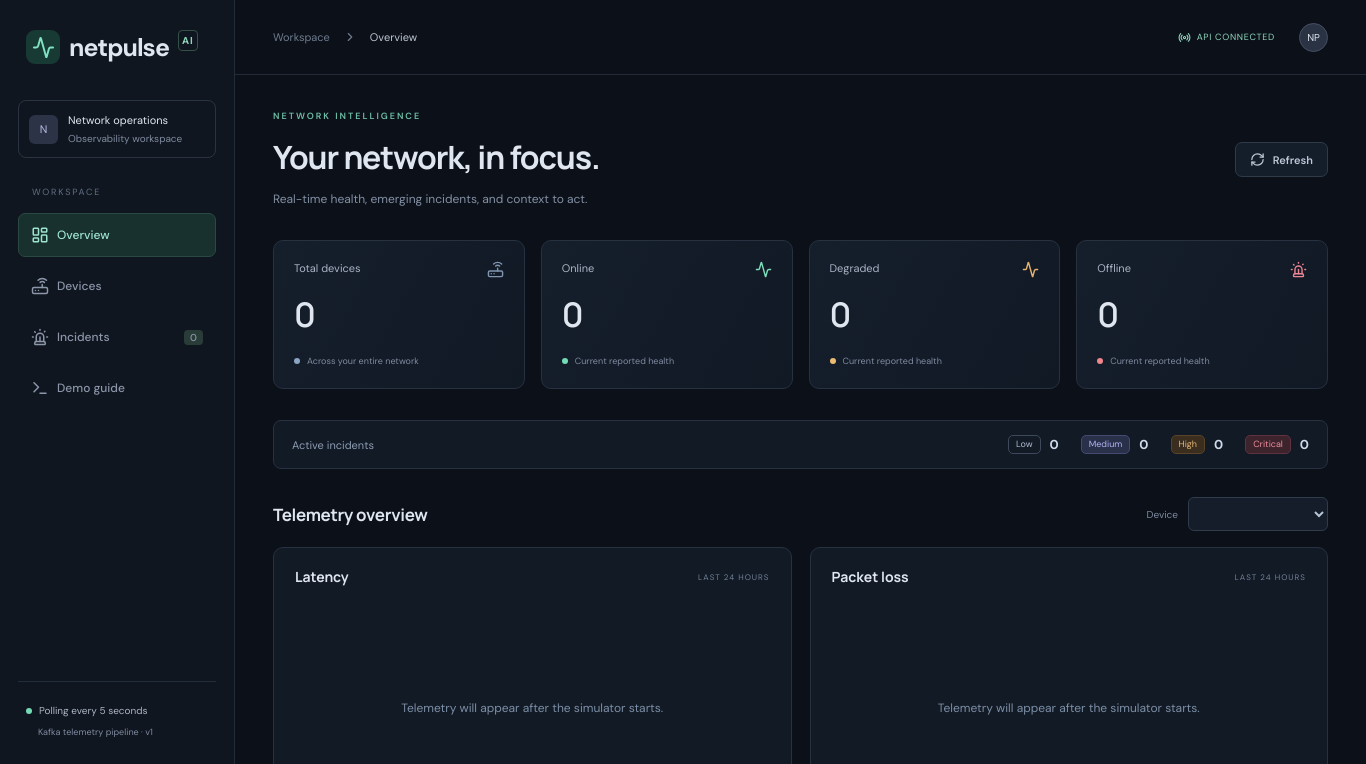
Test case: dashboard › renders backend empty states and demo instructions
Click the button "Demo guide" at {"x": 117, "y": 388}, box [18, 366, 216, 410]
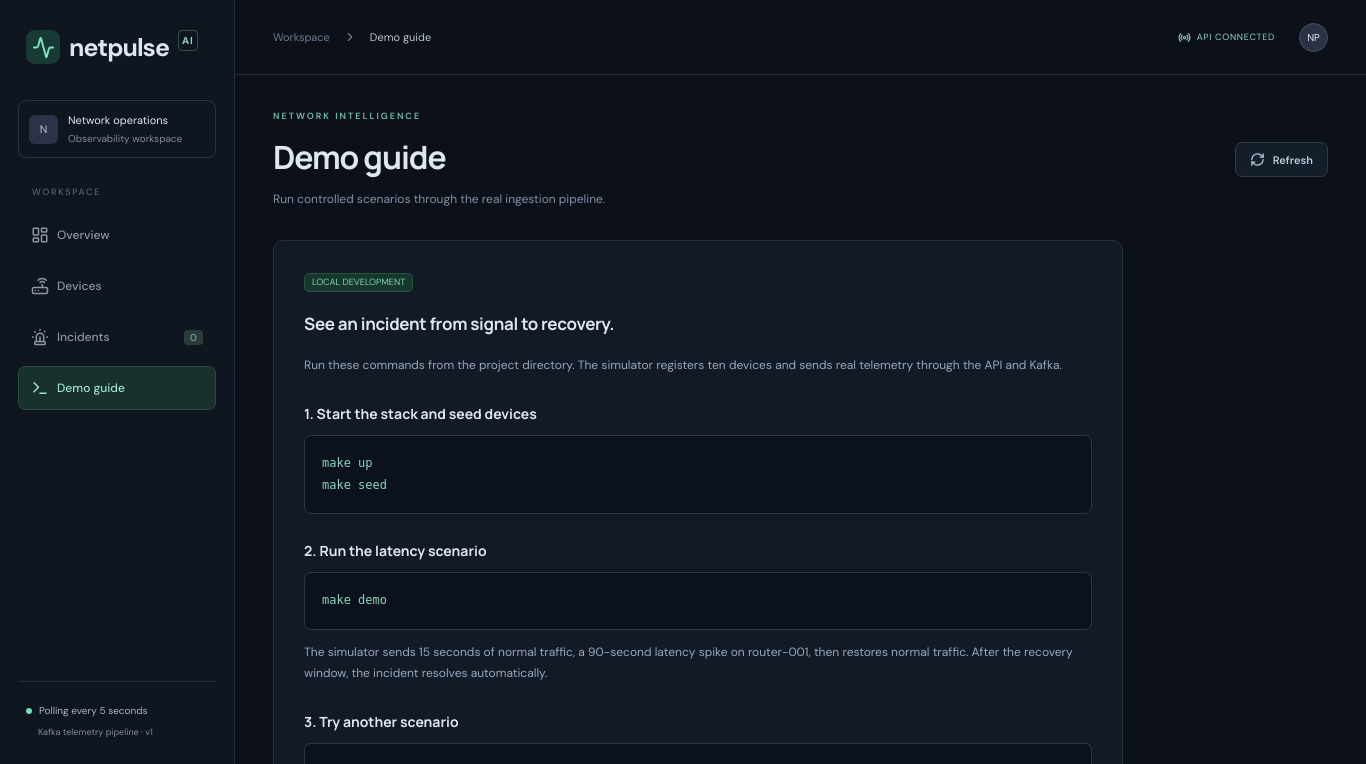
expect the text "make demo" is shown: met, box [304, 572, 1092, 630]
